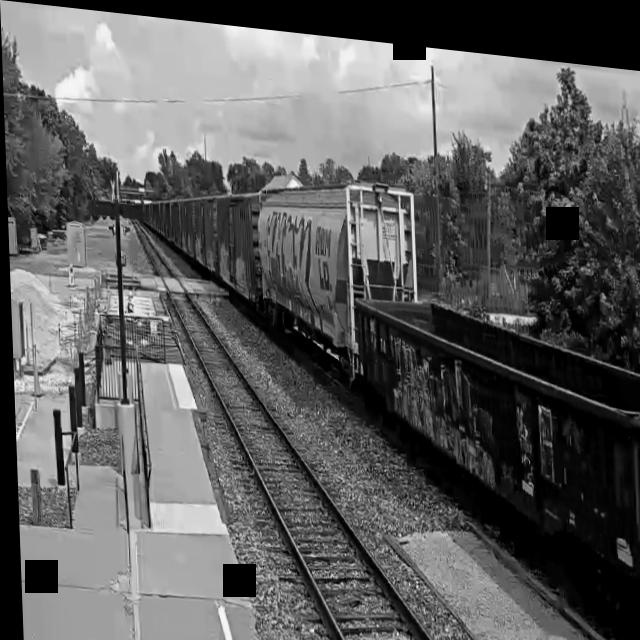boxcar: (211, 181, 262, 302)
gondola: (343, 272, 640, 605)
hopper: (246, 155, 426, 390)
